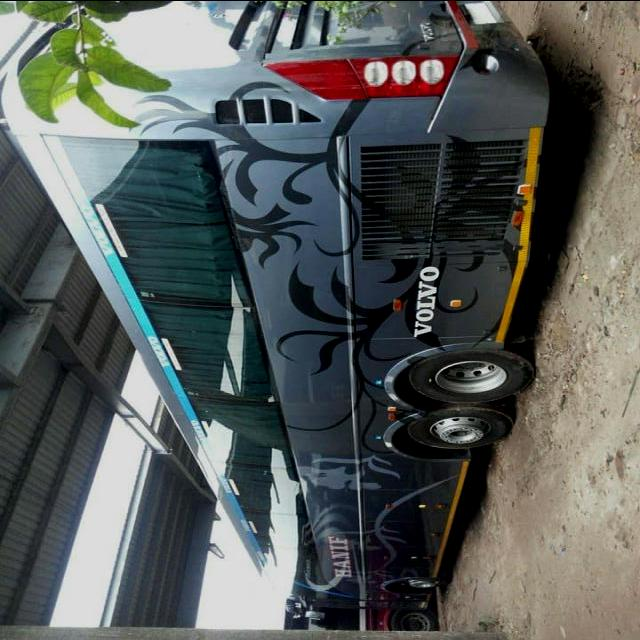bus: (1, 2, 556, 621)
